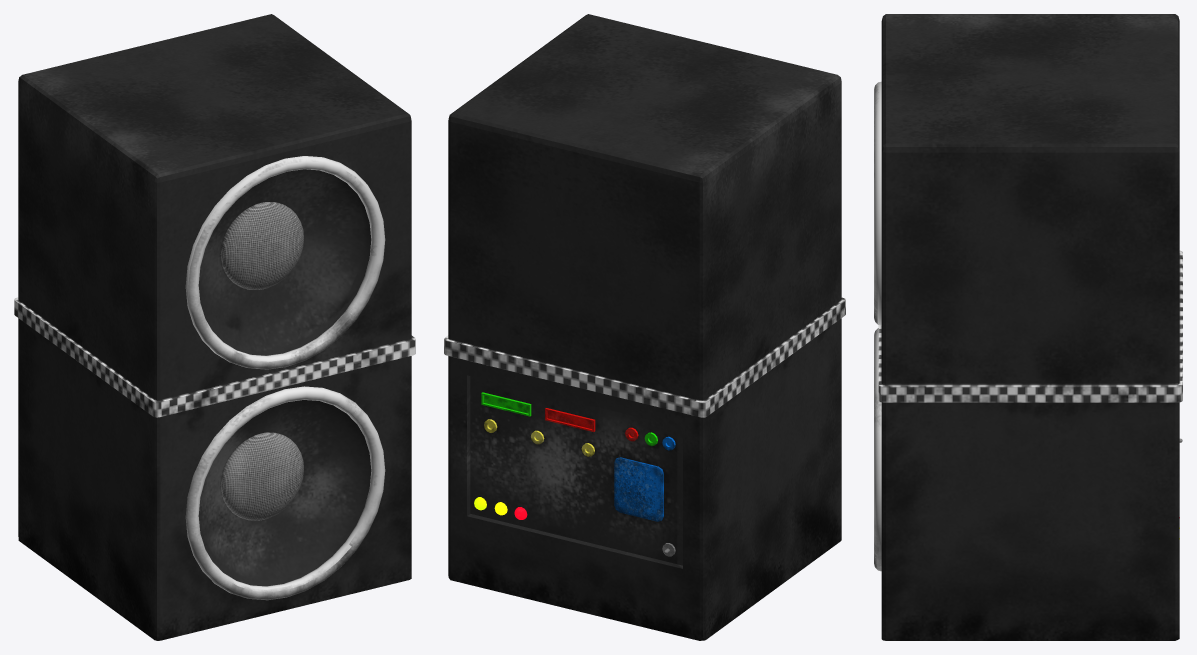
3 renders of one model, left to right at view 1: azimuth 30°, elevation 25°; view 2: azimuth 150°, elevation 25°; view 3: azimuth 270°, elevation 25°, orthographic. The views are drawn at different scales.
Parts seen in each view (by area): view 1: Speaker; view 2: Speaker; view 3: Speaker.
Boxes of the visible parts, x1=… form: Speaker: x1=14, y1=14, x2=415, y2=640; Speaker: x1=444, y1=14, x2=845, y2=640; Speaker: x1=874, y1=14, x2=1182, y2=640.
Bounding box in the file's own units: 0.6631 × 1.12 × 0.6352.
1 material, 1 textured.
